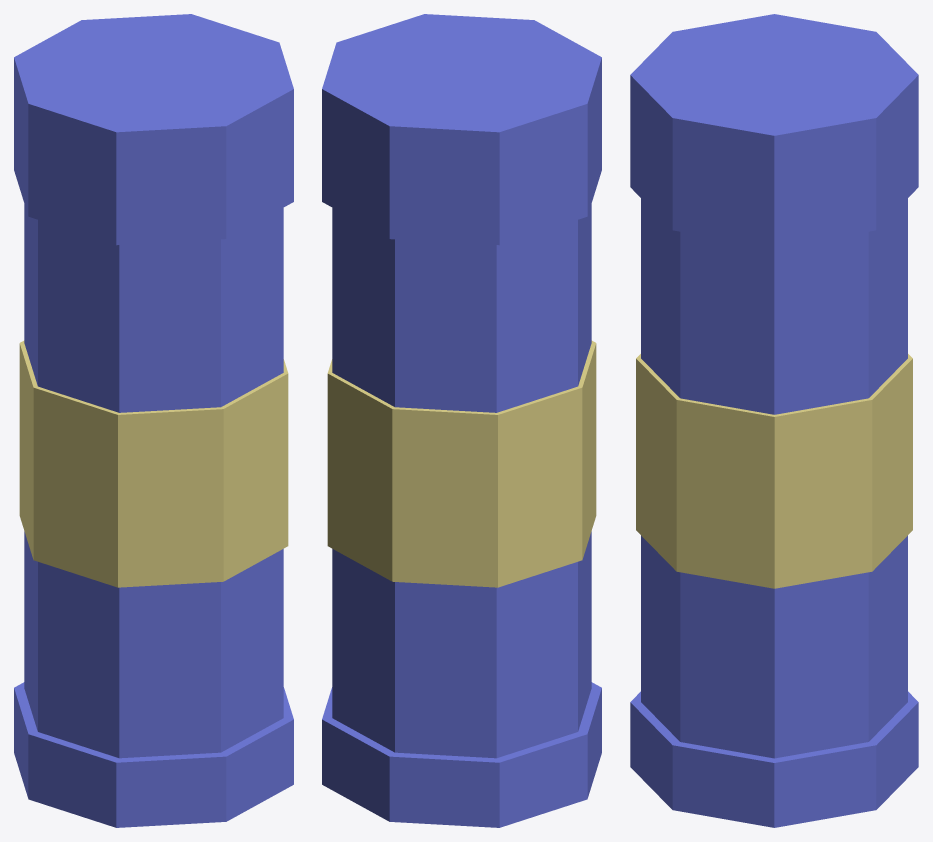
The model's file is SoapBubbles.fbx.
3 renders of one model, left to right at view 1: azimuth 30°, elevation 25°; view 2: azimuth 150°, elevation 25°; view 3: azimuth 270°, elevation 25°, orthographic.
Parts seen in each view (by area): view 1: Cylinder, Cylinder.002; view 2: Cylinder, Cylinder.002; view 3: Cylinder, Cylinder.002.
Boxes of the visible parts, x1,y1,x2,y2 form: Cylinder: (14,204,293,827); Cylinder.002: (14,14,293,245); Cylinder: (322,204,601,827); Cylinder.002: (322,14,601,245); Cylinder: (630,198,918,827); Cylinder.002: (630,14,918,247).
Bounding box in the file's own units: 200 × 530 × 200.
